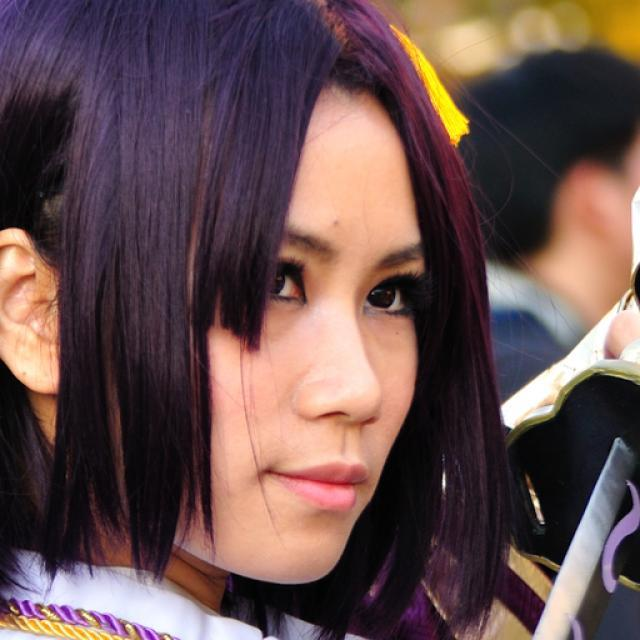neutral: (175, 80, 428, 584)
